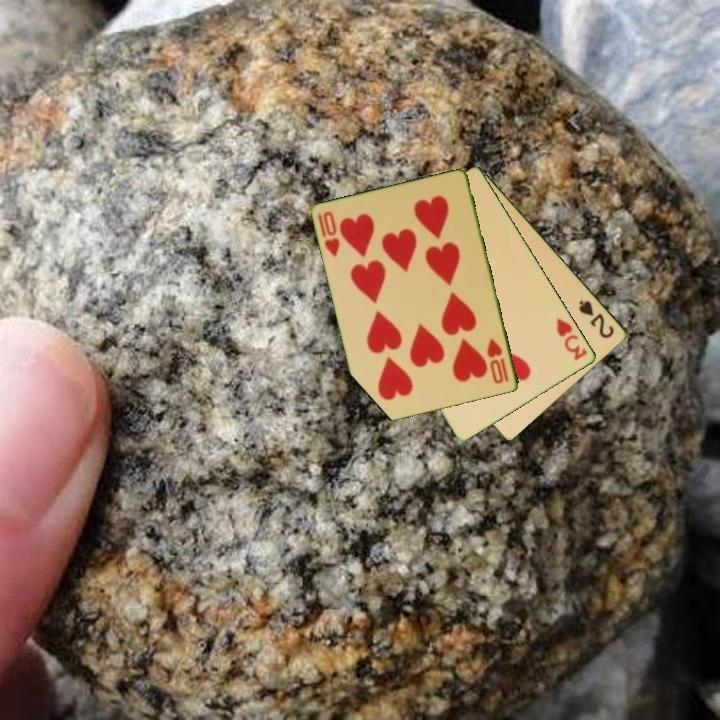10h: (483, 335, 512, 387), (314, 208, 343, 260)
2s: (575, 296, 618, 341)
3h: (553, 315, 590, 363)
